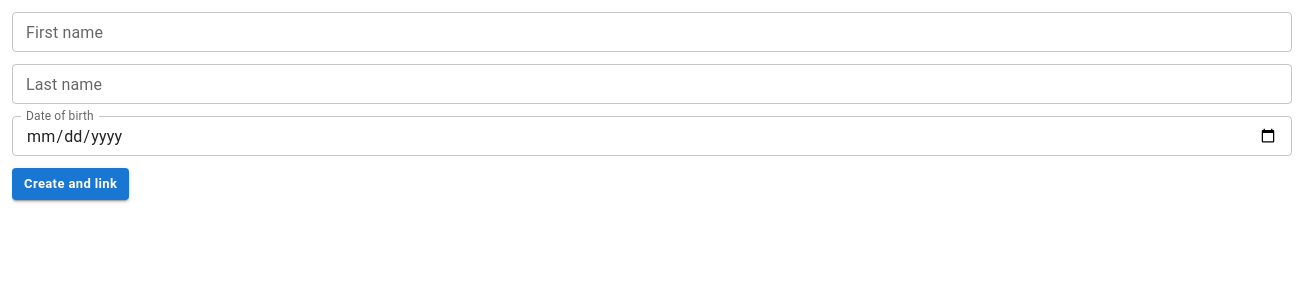
Test: PlayerQuickForm › requires both names
This screenshot has width=1304, height=299.
Click the button "Create and link".
click(71, 184)  # box [12, 168, 129, 200]
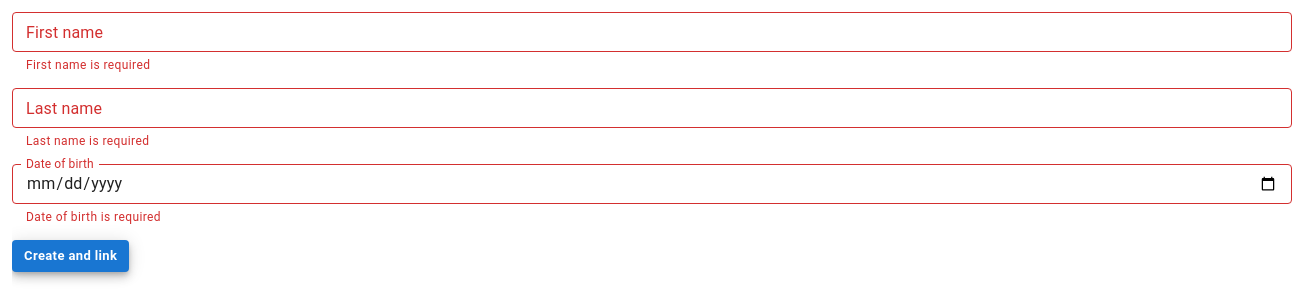
Expected: the text "First name is required" is shown, [26, 58, 150, 72]
Expected: the text "Last name is required" is shown, [26, 134, 149, 148]
